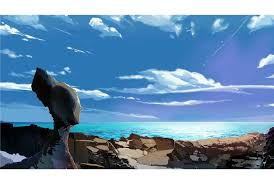yehliu: (24, 64, 95, 130)
